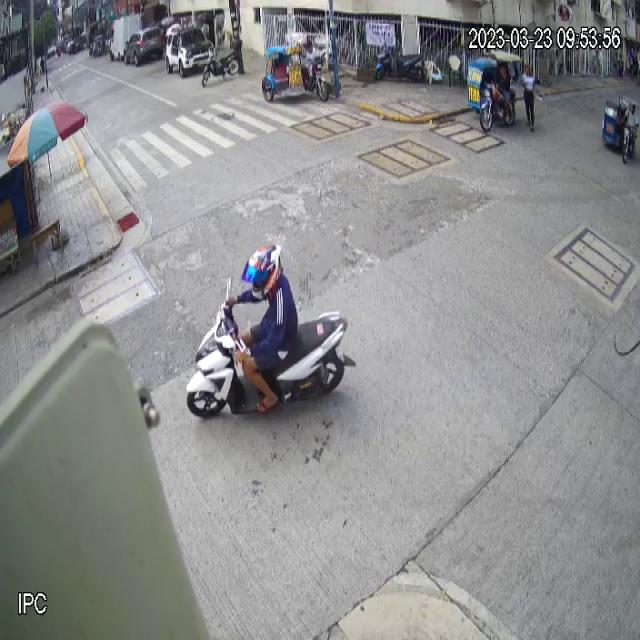Motorcycle: (187, 271, 358, 421)
Tricycle: (261, 31, 329, 105), (467, 48, 521, 131)
